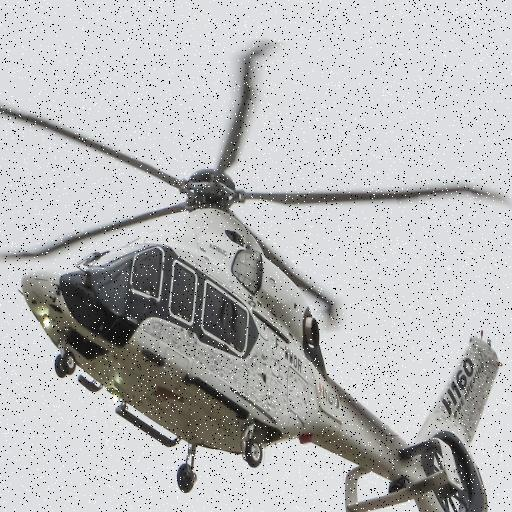helicopter: (1, 25, 512, 512)
